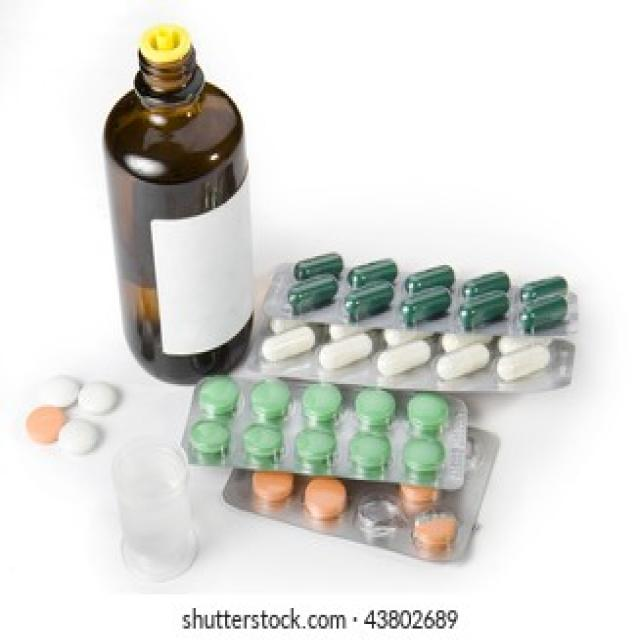B3: (90, 14, 258, 382), (178, 370, 484, 487), (258, 249, 580, 343)
